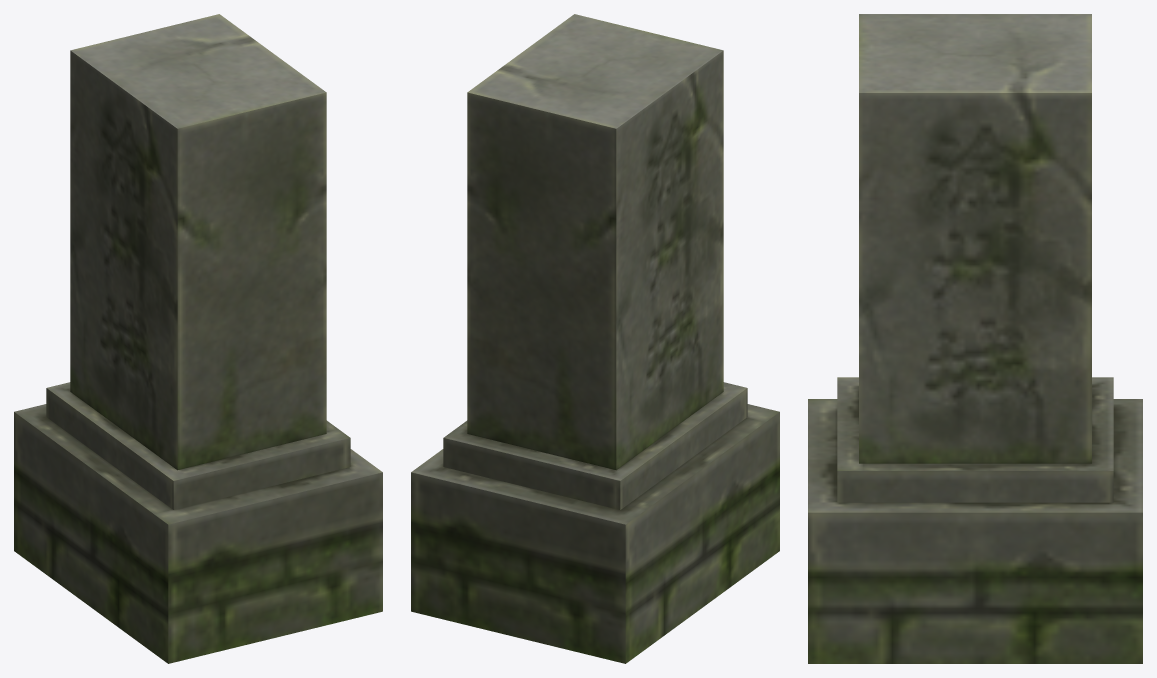
The model's file is GongYong_Qiao_2.FBX.
The picture shows the model from 3 angles, left to right: view 1: azimuth 30°, elevation 25°; view 2: azimuth 150°, elevation 25°; view 3: azimuth 270°, elevation 25°; orthographic projection. The views are drawn at different scales.
Visible parts, largest first — view 1: GongYong_Qiao_2; view 2: GongYong_Qiao_2; view 3: GongYong_Qiao_2.
Boxes of the visible parts, x1=… form: GongYong_Qiao_2: x1=14, y1=14, x2=382, y2=663; GongYong_Qiao_2: x1=411, y1=14, x2=779, y2=663; GongYong_Qiao_2: x1=808, y1=14, x2=1142, y2=663.
Bounding box in the file's own units: 98.46 × 224 × 123.
Materials: 1 (1 with a texture image).
